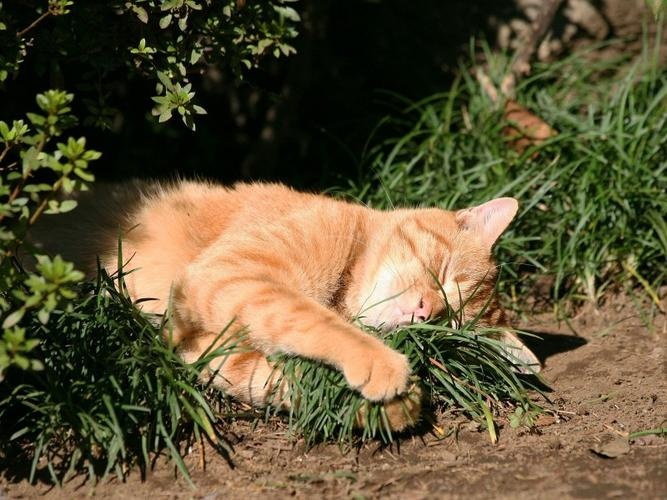cat: (82, 176, 543, 431)
